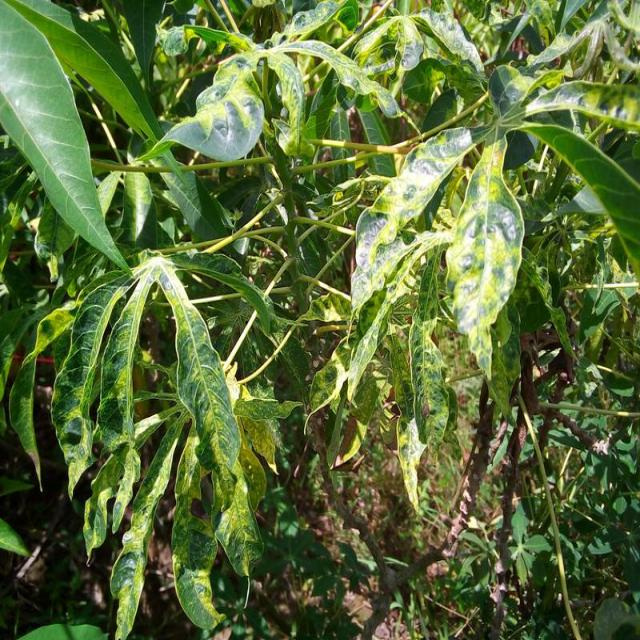Mosaico: (356, 68, 632, 357), (21, 233, 305, 457), (331, 318, 541, 518), (138, 376, 329, 573), (164, 17, 401, 137)
